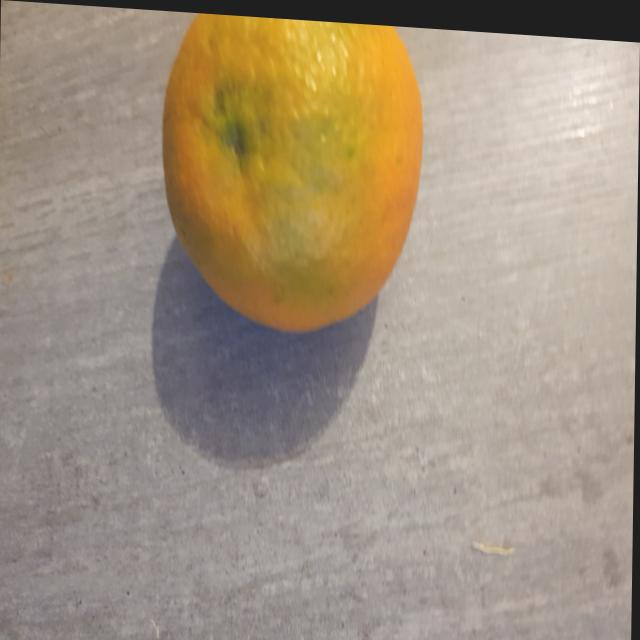Orange: (158, 10, 422, 330)
